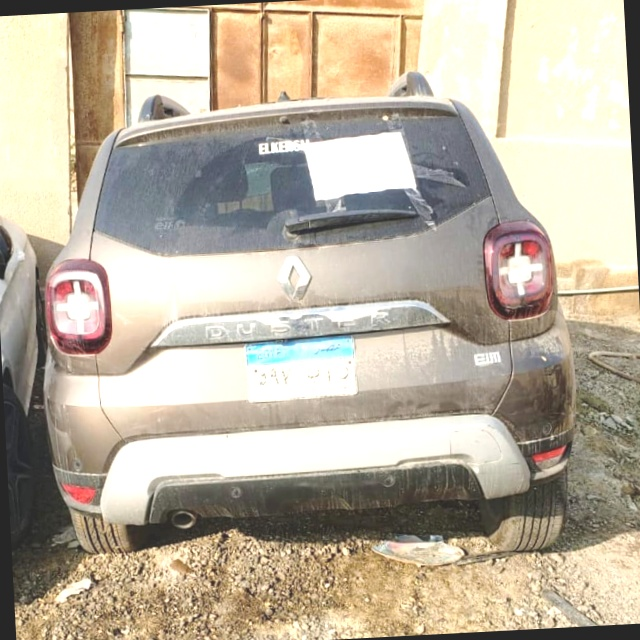License Plate: (240, 332, 363, 406)
